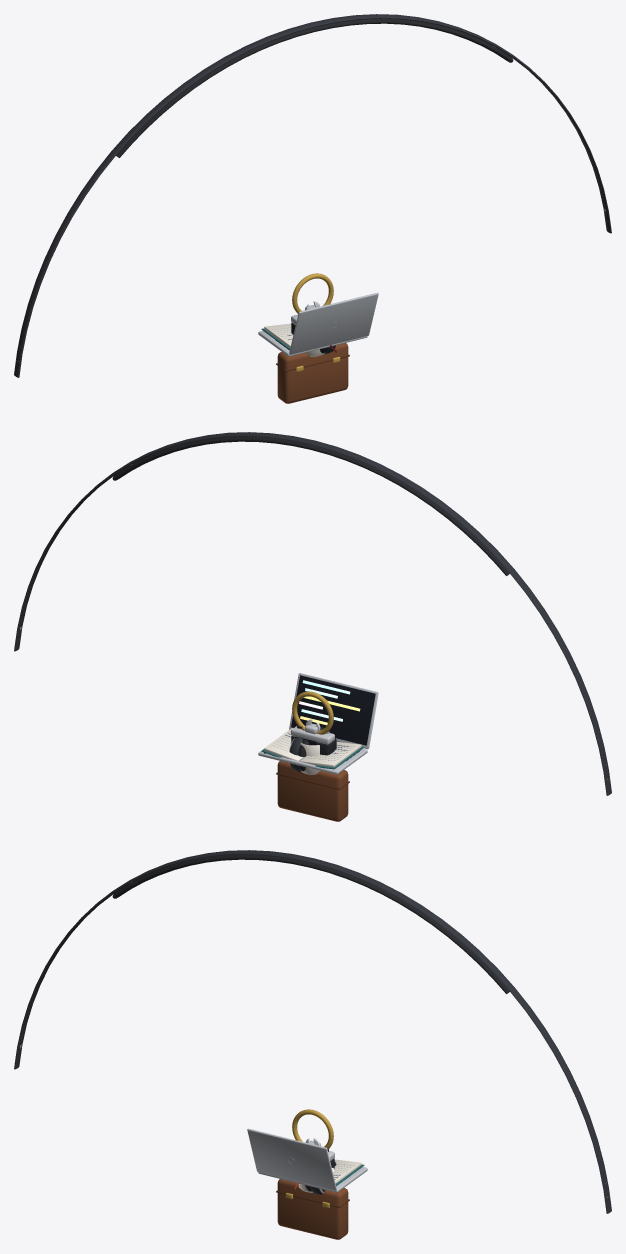
Rendered from props-BoyPV6cm.glb.
The picture shows the model from 3 angles, top to bottom: view 1: azimuth 30°, elevation 25°; view 2: azimuth 150°, elevation 25°; view 3: azimuth 330°, elevation 25°; orthographic projection.
Parts seen in each view (by area): view 1: prop.headphones.band, prop.laptop, prop.briefcase; view 2: prop.headphones.band, prop.laptop, prop.briefcase, prop.notebook, prop.camera, prop.magnifier; view 3: prop.headphones.band, prop.laptop, prop.briefcase.
Part boxes in pixels (left/top/right/bottom): prop.headphones.band: left=14, top=14, right=611, bottom=377; prop.laptop: left=258, top=292, right=378, bottom=356; prop.briefcase: left=276, top=343, right=349, bottom=403; prop.headphones.band: left=14, top=432, right=611, bottom=795; prop.laptop: left=258, top=673, right=378, bottom=774; prop.briefcase: left=276, top=761, right=349, bottom=821; prop.notebook: left=261, top=728, right=364, bottom=769; prop.camera: left=291, top=723, right=336, bottom=755; prop.magnifier: left=292, top=691, right=333, bottom=734; prop.headphones.band: left=14, top=850, right=611, bottom=1213; prop.laptop: left=247, top=1128, right=367, bottom=1192; prop.briefcase: left=276, top=1179, right=349, bottom=1239.
Size of the model in its own units: 2.01 by 1.2 by 0.2444.
